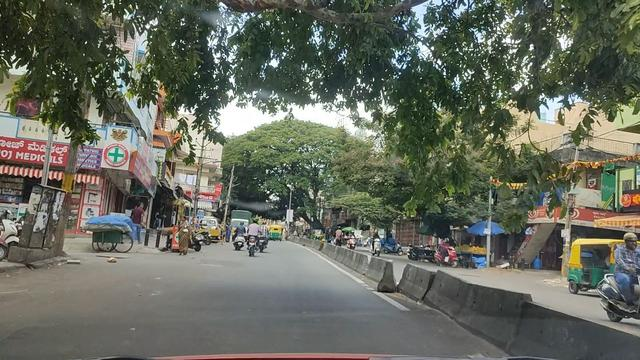RoadDamages: (2, 279, 49, 316)
